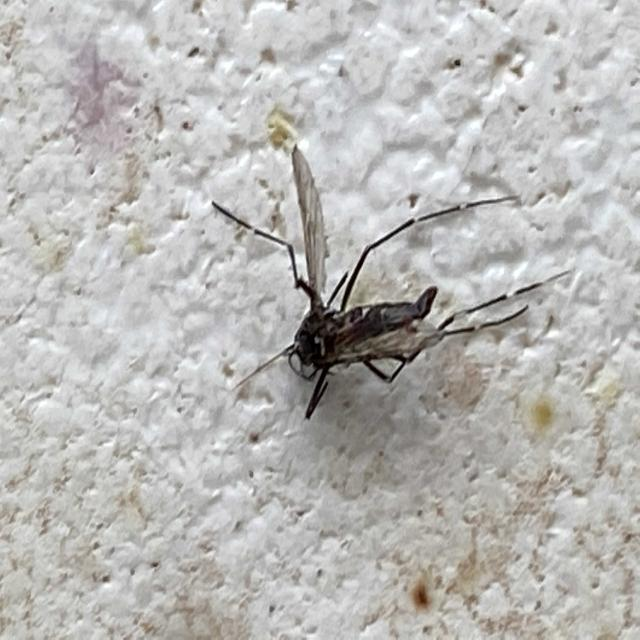albopictus: (198, 116, 575, 448)
